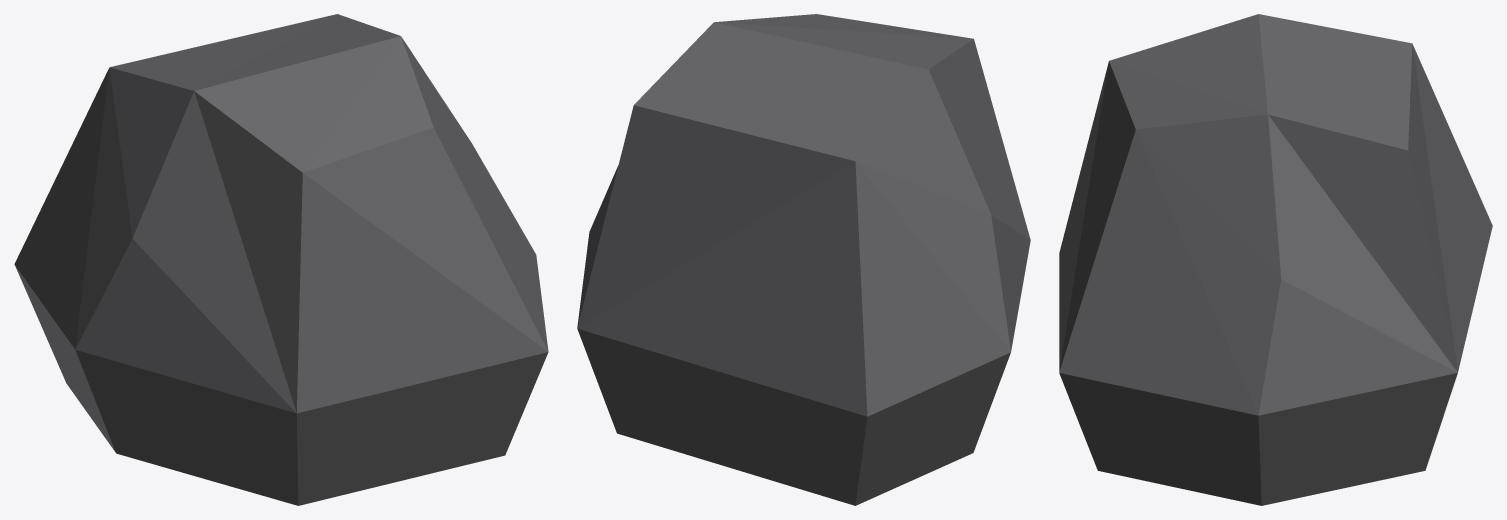
Rendered from SM_Env_SmallRock_02.glb.
3 views of the same model, side by side, from view 1: azimuth 30°, elevation 25°; view 2: azimuth 150°, elevation 25°; view 3: azimuth 270°, elevation 25° (orthographic). The views are drawn at different scales.
Parts seen in each view (by area): view 1: SM_Env_SmallRock_02_part00; view 2: SM_Env_SmallRock_02_part00; view 3: SM_Env_SmallRock_02_part00.
Part boxes in pixels (box(x1,y1,x2,y2)): SM_Env_SmallRock_02_part00: box(14, 14, 548, 505); SM_Env_SmallRock_02_part00: box(577, 14, 1030, 505); SM_Env_SmallRock_02_part00: box(1059, 14, 1492, 505).
Size of the model in its own units: 0.4477 by 0.3471 by 0.3912.
1 material, 1 textured.
